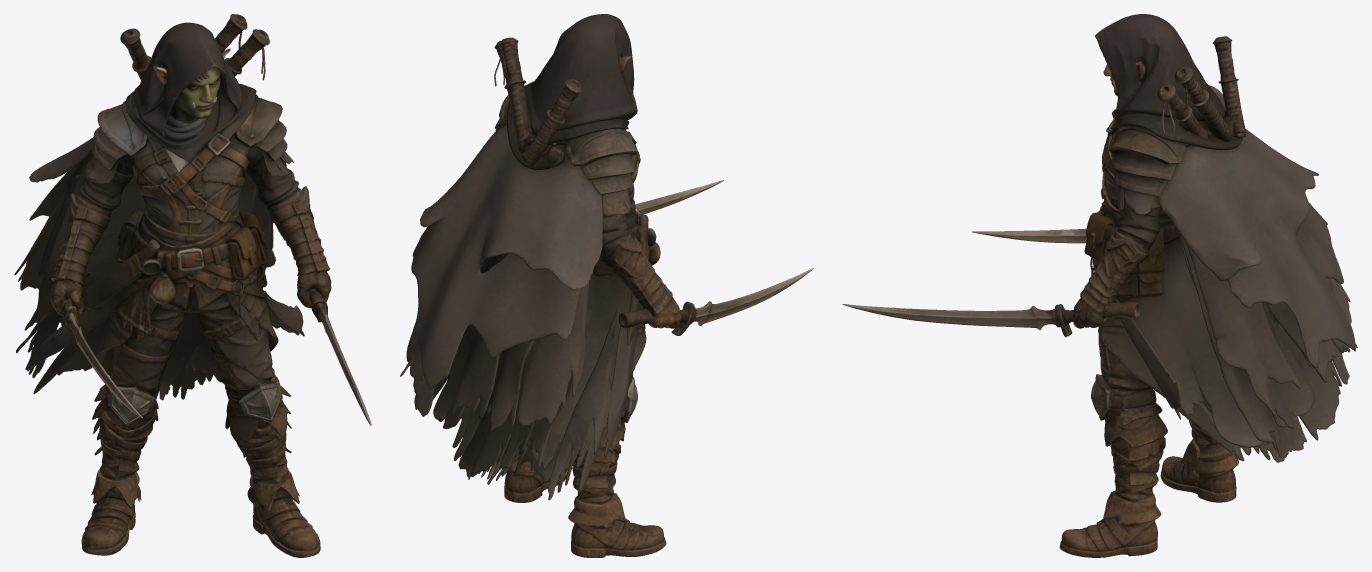
File: half_orc_rogue_full_male_01.glb
The picture shows the model from 3 angles, left to right: view 1: azimuth 30°, elevation 25°; view 2: azimuth 150°, elevation 25°; view 3: azimuth 270°, elevation 25°; orthographic projection. The views are drawn at different scales.
Parts seen in each view (by area): view 1: material; view 2: material; view 3: material.
Boxes of the visible parts, bbox=[...] form: material: bbox=[14, 14, 371, 557]; material: bbox=[400, 14, 813, 557]; material: bbox=[842, 14, 1357, 557].
Size of the model in its own units: 0.5916 by 1.08 by 1.01.
1 material, 1 textured.
